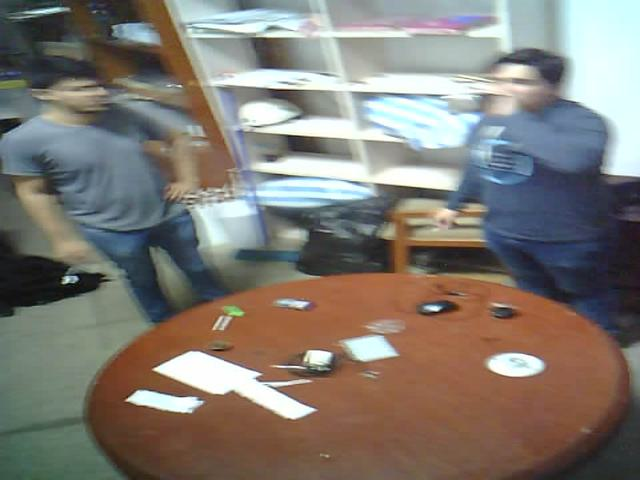person: (0, 47, 251, 333), (428, 36, 640, 355)
